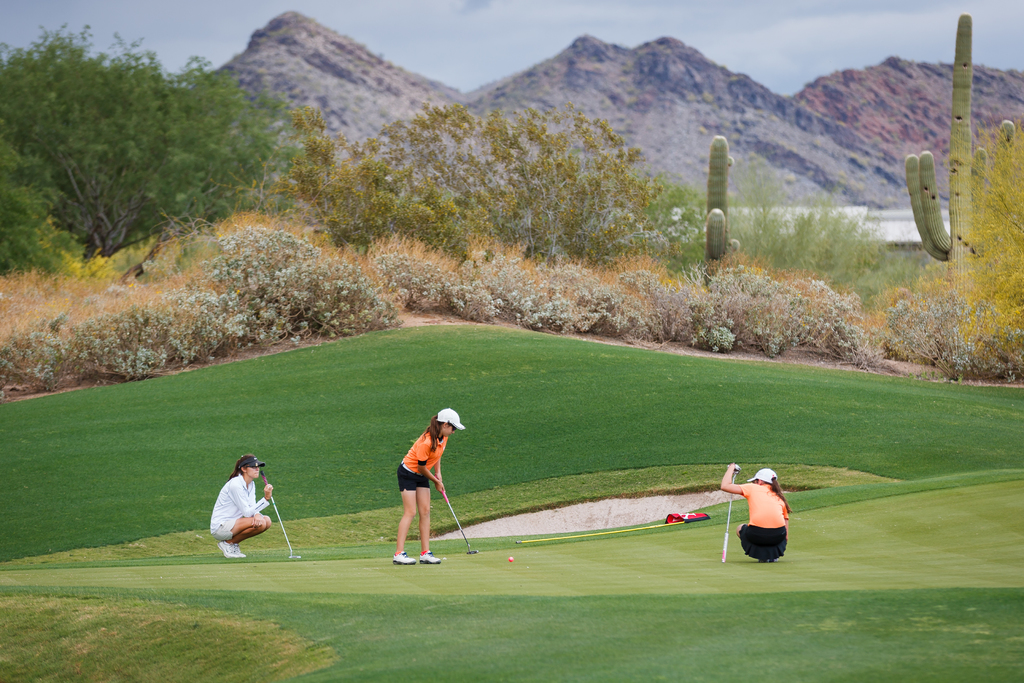Person: (392, 408, 465, 564), (720, 463, 787, 562), (210, 454, 273, 557)
